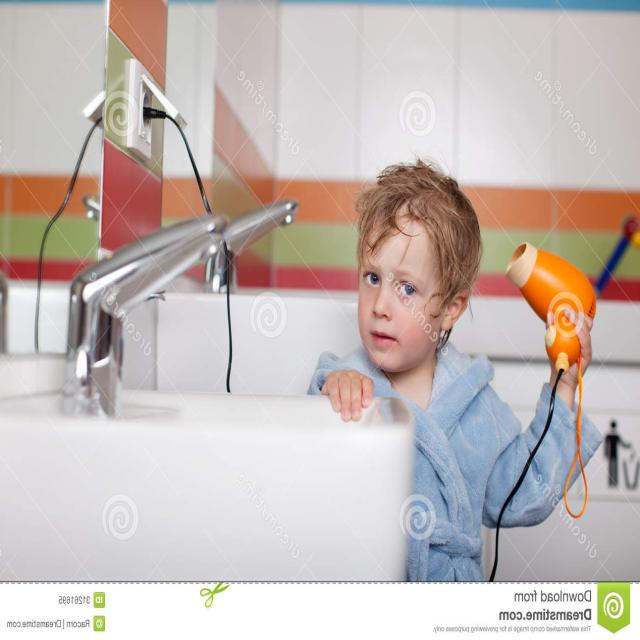dryer: (498, 233, 610, 403)
